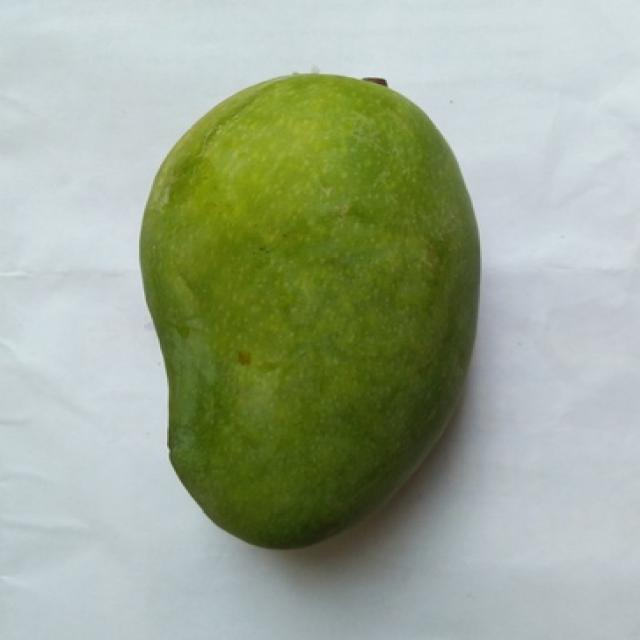Mango: (141, 74, 478, 548)
